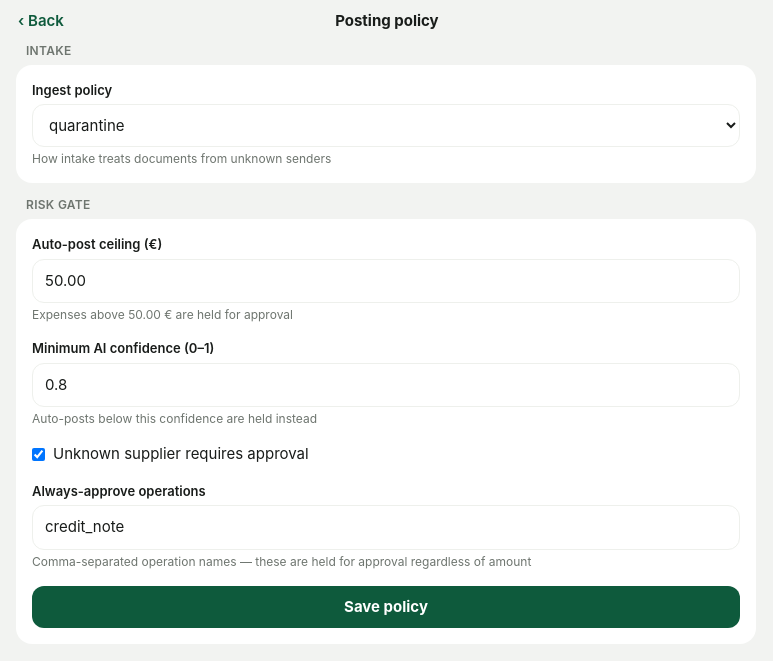
Test: PolicyScreen › saves comma-decimal euros as integer cents (the cent bug stays dead)
This screenshot has width=773, height=661.
Replace the text in the field labelled "Auto-post ceiling (€)" with "120,50" at coordinates (386, 281), box [32,258,740,303]
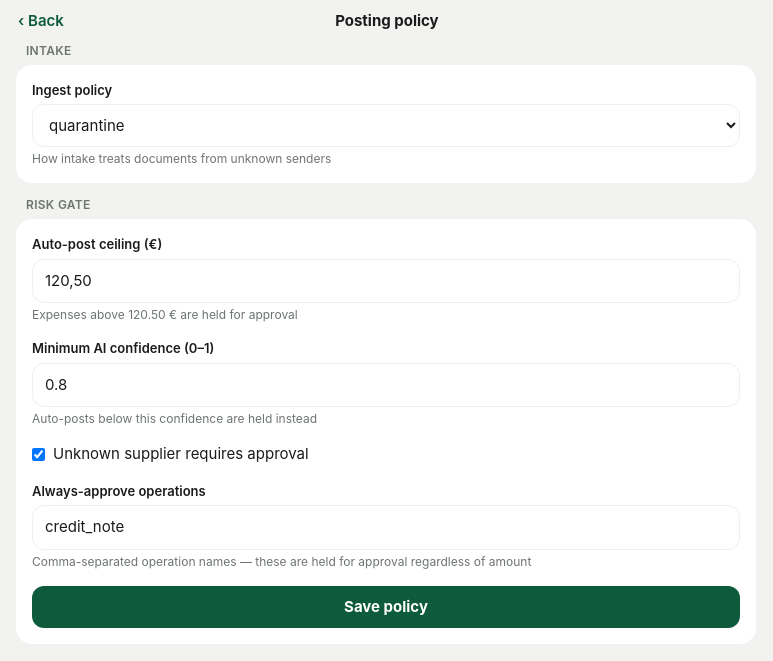
Click the button "Save policy" at coordinates (386, 607), box [32,586,740,628]
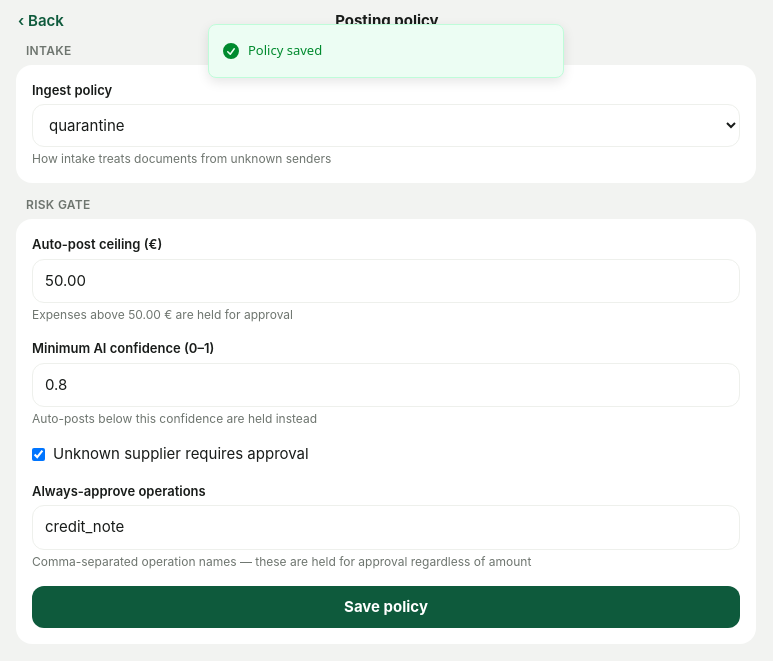
Expected: the text "Policy saved" is shown, [248,41,322,60]
